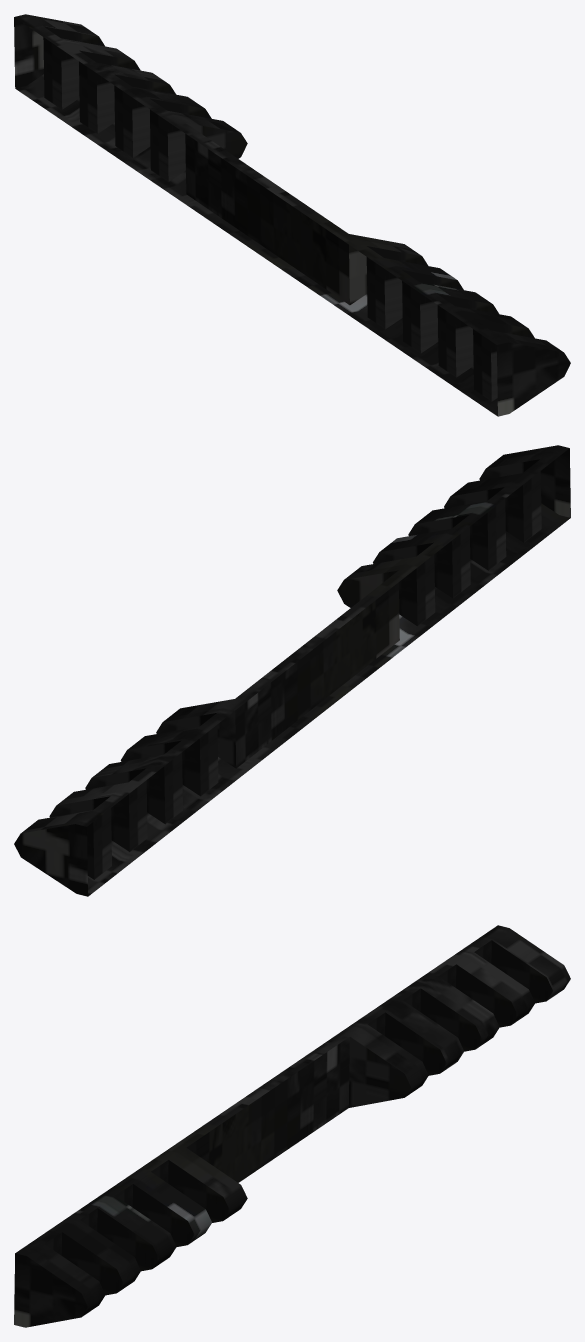
3 renders of one model, top to bottom at view 1: azimuth 30°, elevation 25°; view 2: azimuth 150°, elevation 25°; view 3: azimuth 330°, elevation 25°, orthographic.
Parts seen in each view (by area): view 1: wingtipL_hinge_1_f35_ext_3_0; view 2: wingtipL_hinge_1_f35_ext_3_0; view 3: wingtipL_hinge_1_f35_ext_3_0.
Boxes of the visible parts, bbox=[...] form: wingtipL_hinge_1_f35_ext_3_0: bbox=[14, 14, 570, 416]; wingtipL_hinge_1_f35_ext_3_0: bbox=[14, 445, 570, 896]; wingtipL_hinge_1_f35_ext_3_0: bbox=[14, 925, 570, 1327].
Size of the model in its own units: 9.43 by 11.78 by 108.
Materials: 1 (1 with a texture image).
